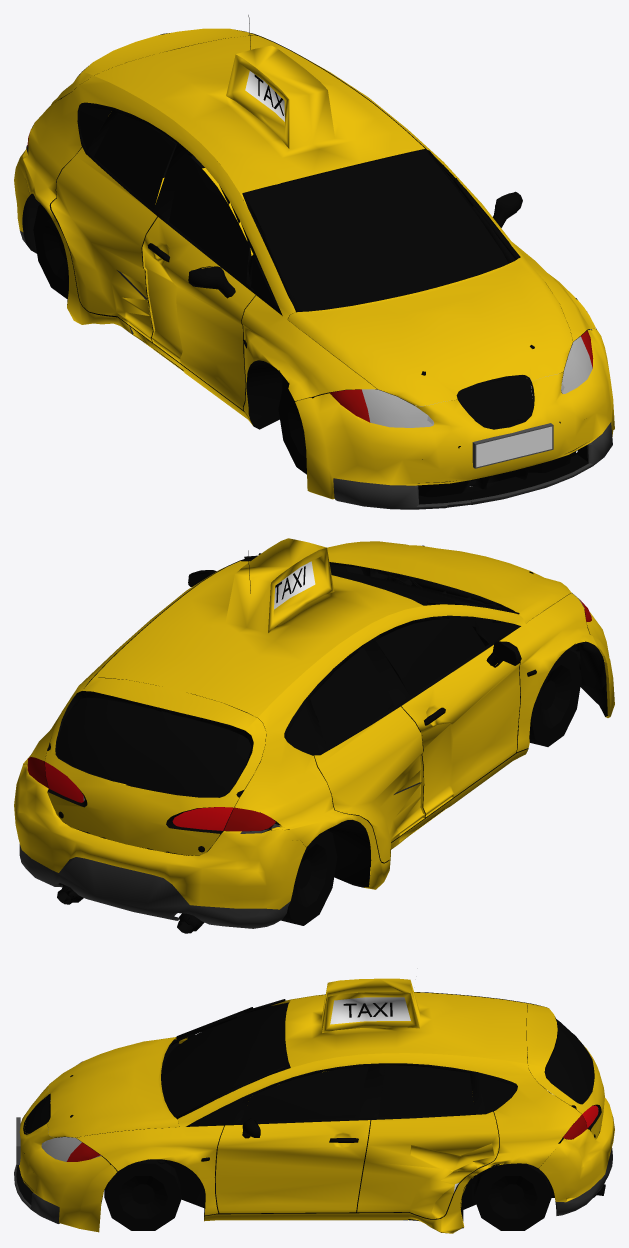
Rendered from SEATLEAON_blend.fbx.
3 views of the same model, one above another, from view 1: azimuth 30°, elevation 25°; view 2: azimuth 150°, elevation 25°; view 3: azimuth 270°, elevation 25° (orthographic). The views are drawn at different scales.
Parts seen in each view (by area): view 1: MainBody, Glass, Detail, Cube, Object016, Object015; view 2: MainBody, Glass, Detail, Object015, Object016; view 3: MainBody, Glass, Detail, Object005, Object017.
Part boxes in pixels (x1,y1,x2,y2): MainBody: (14,28,614,509); Glass: (27,41,593,427); Detail: (22,15,596,504); Cube: (472,423,553,468); Object016: (33,204,68,299); Object015: (278,382,315,474); MainBody: (14,538,614,928); Glass: (27,560,591,831); Detail: (44,545,607,933); Object015: (529,649,581,746); Object016: (279,824,337,925); MainBody: (14,978,614,1233); Glass: (41,1002,598,1161); Detail: (16,992,605,1228); Object005: (104,1159,182,1230); Object017: (474,1163,551,1230).
Bounding box in the file's own units: 119 × 101 × 248.
